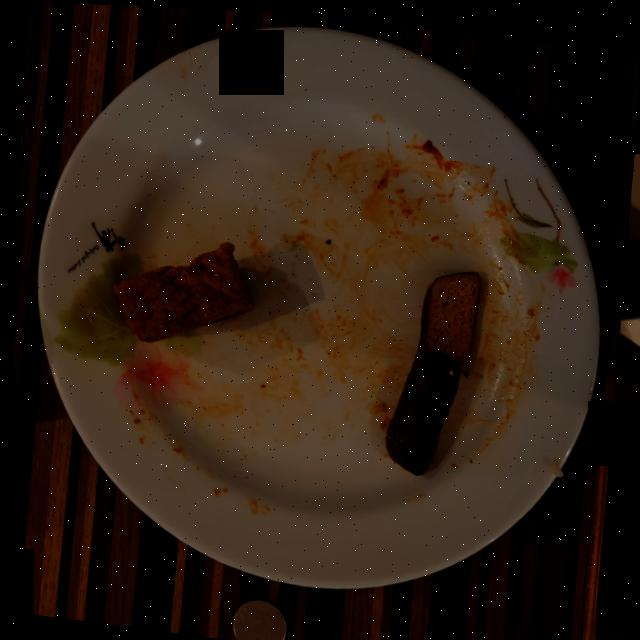coin: (227, 595, 282, 640)
firm tofu: (382, 266, 478, 470)
soy egg: (112, 239, 251, 340)
